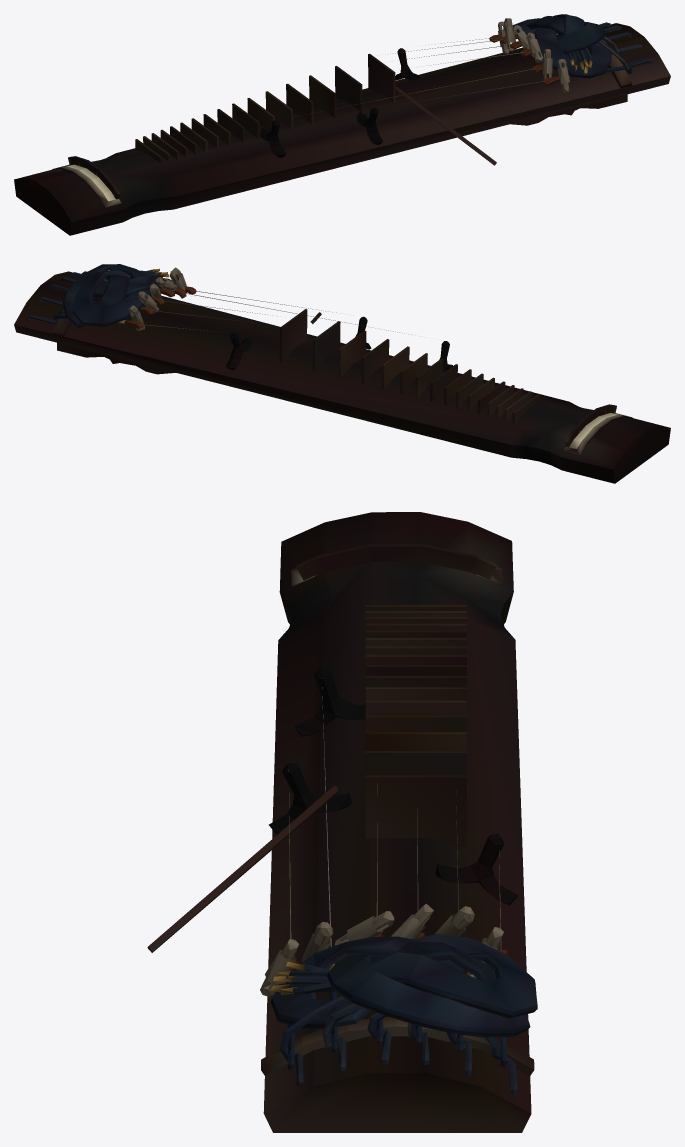
Rendered from geomungo_db346b08.glb.
3 renders of one model, top to bottom at view 1: azimuth 30°, elevation 25°; view 2: azimuth 150°, elevation 25°; view 3: azimuth 270°, elevation 25°, orthographic. The views are drawn at different scales.
Parts seen in each view (by area): view 1: SM_Geomungo_Material #25_0; view 2: SM_Geomungo_Material #25_0; view 3: SM_Geomungo_Material #25_0.
Boxes of the visible parts, x1=… form: SM_Geomungo_Material #25_0: x1=14, y1=14, x2=670, y2=235; SM_Geomungo_Material #25_0: x1=14, y1=264, x2=670, y2=483; SM_Geomungo_Material #25_0: x1=147, y1=512, x2=537, y2=1132.
Size of the model in its own units: 1.63 by 0.1795 by 0.4625.
